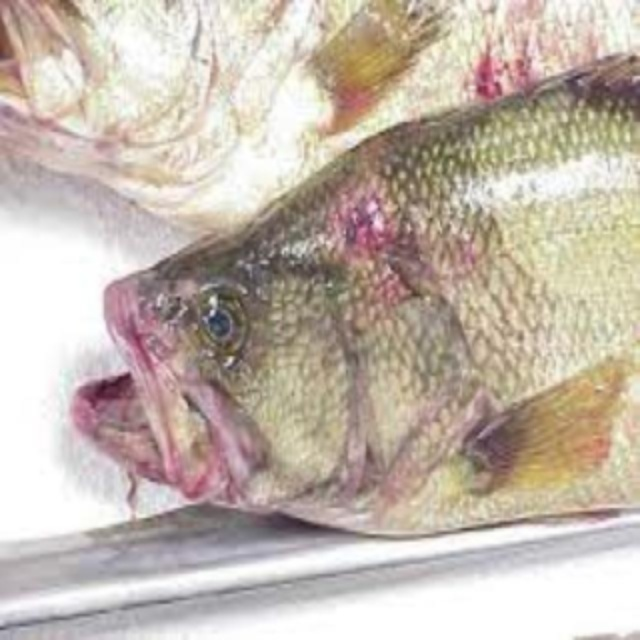EUS Disease: (3, 3, 640, 534), (88, 177, 611, 508), (443, 0, 598, 110)
